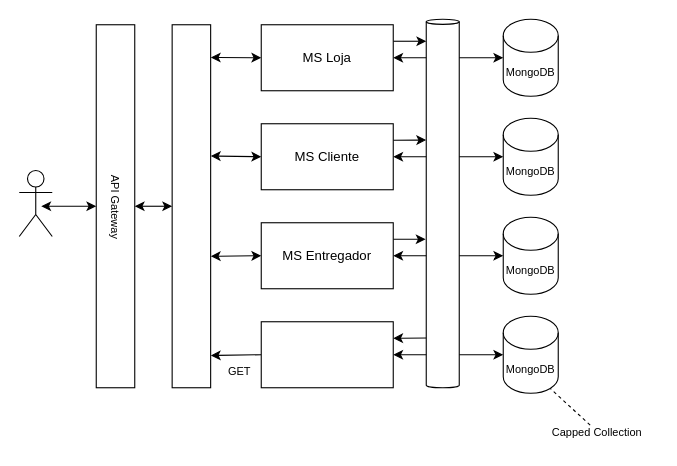
Image size: 677x466. Some labels were removed from this diagram. The centre of each missing label's shape, as x and y in pixels:
"Cliente" belongs at (35,203).
"Eureka Server" belongs at (191,206).
"MS Log" belongs at (326,354).
"RabbitMQ" belongs at (442,203).
